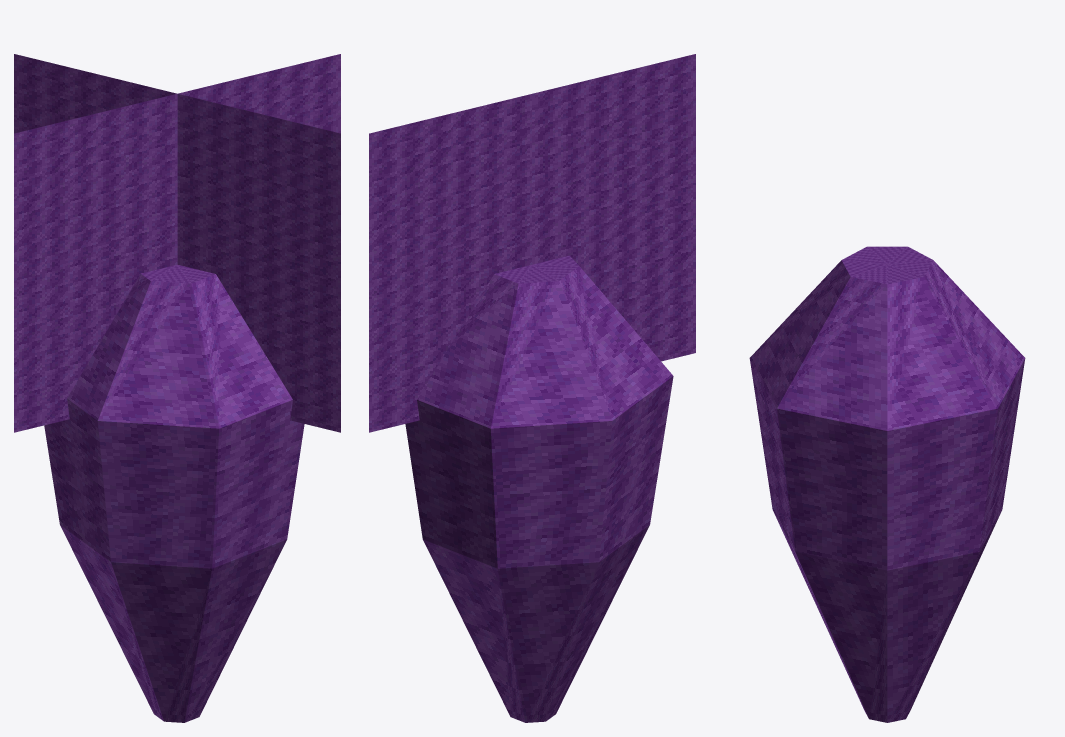
File: beladona.glb
3 views of the same model, side by side, from view 1: azimuth 30°, elevation 25°; view 2: azimuth 150°, elevation 25°; view 3: azimuth 270°, elevation 25° (orthographic).
Visible parts, largest first — view 1: beladona; view 2: beladona; view 3: beladona.
Part boxes in pixels (bbox=[...]): beladona: bbox=[14, 54, 340, 722]; beladona: bbox=[369, 54, 695, 722]; beladona: bbox=[749, 246, 1025, 722].
Size of the model in its own units: 0.32 by 0.58 by 0.2771.
1 material, 1 textured.
